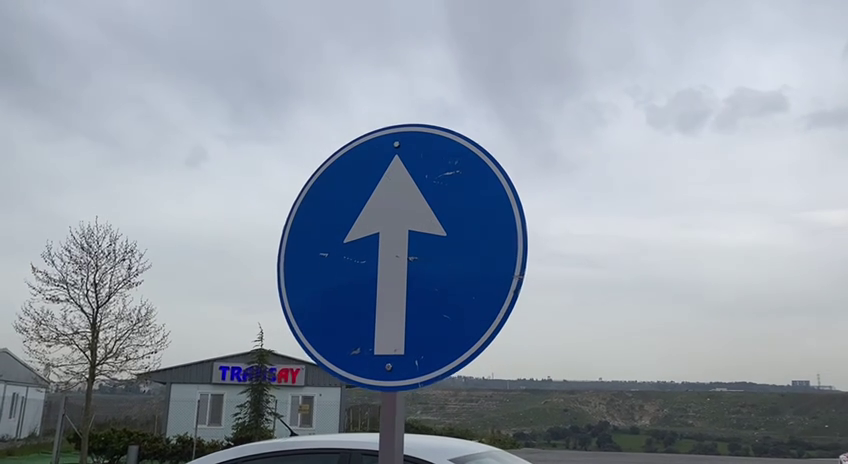forward: (272, 121, 537, 394)
